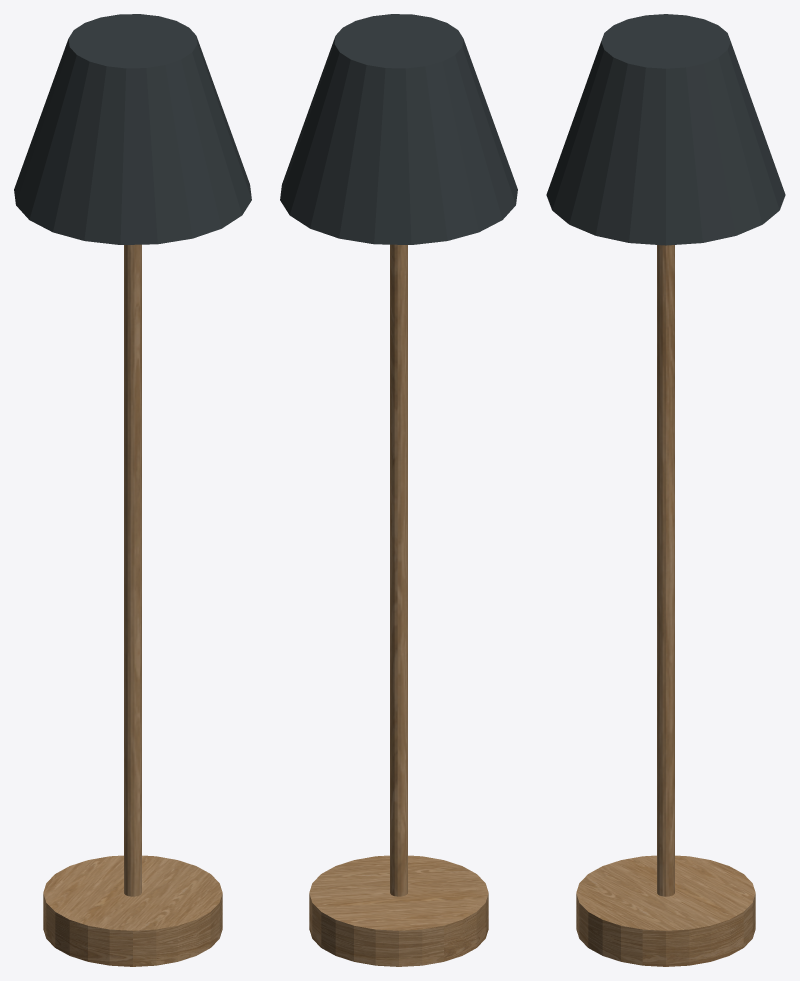
The model's file is floor_lamp_black.glb.
The picture shows the model from 3 angles, left to right: view 1: azimuth 30°, elevation 25°; view 2: azimuth 150°, elevation 25°; view 3: azimuth 270°, elevation 25°; orthographic projection.
Parts seen in each view (by area): view 1: fabric shade, weighted base, lamp pole; view 2: fabric shade, weighted base, lamp pole; view 3: fabric shade, weighted base, lamp pole.
Part boxes in pixels (bbox=[...]): fabric shade: bbox=[14, 14, 251, 244]; weighted base: bbox=[43, 855, 222, 966]; lamp pole: bbox=[124, 244, 141, 896]; fabric shade: bbox=[280, 14, 517, 244]; weighted base: bbox=[309, 855, 488, 966]; lamp pole: bbox=[390, 244, 407, 896]; fabric shade: bbox=[546, 14, 785, 245]; weighted base: bbox=[576, 855, 755, 966]; lamp pole: bbox=[657, 245, 674, 896].
Size of the model in its own units: 0.48 by 1.96 by 0.48.
2 materials, 1 textured.
